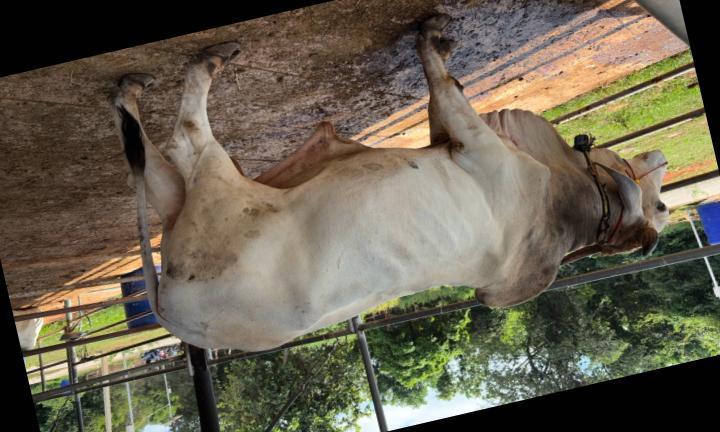Brahman: (107, 14, 668, 351)
